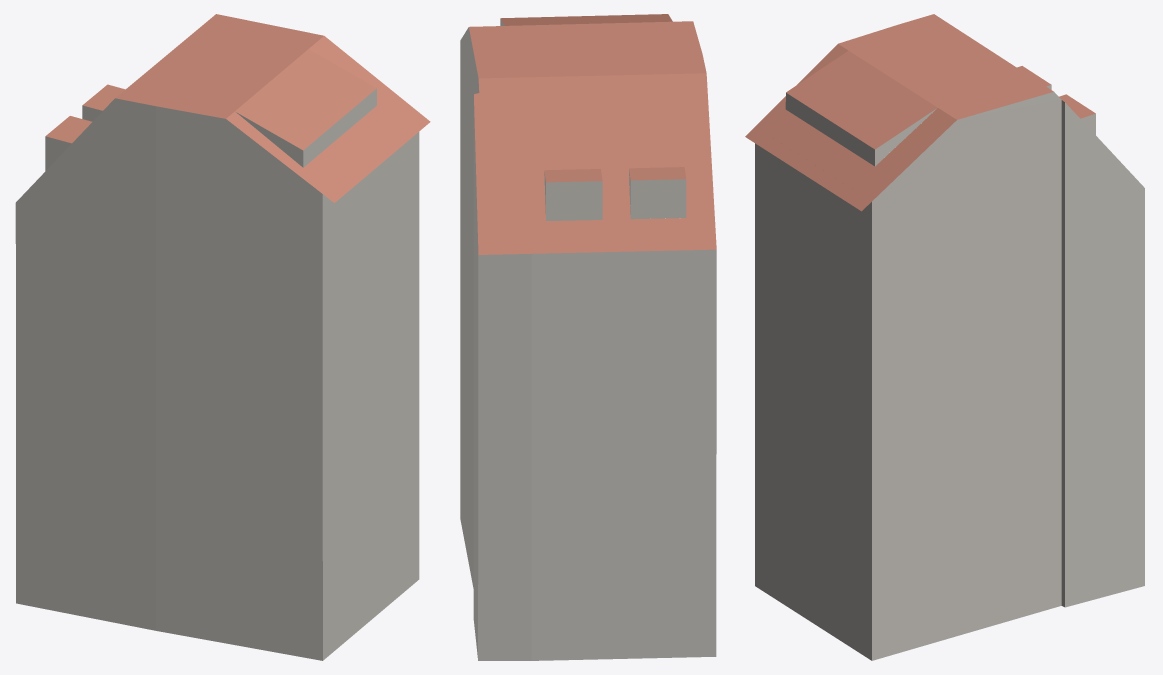
3 views of the same model, side by side, from view 1: azimuth 30°, elevation 25°; view 2: azimuth 150°, elevation 25°; view 3: azimuth 270°, elevation 25° (orthographic). The views are drawn at different scales.
Parts seen in each view (by area): view 1: swisstopo:swissbuildings3d:e5fde523-4b35-4098-9670-4b5f9e4bb; view 2: swisstopo:swissbuildings3d:e5fde523-4b35-4098-9670-4b5f9e4bb; view 3: swisstopo:swissbuildings3d:e5fde523-4b35-4098-9670-4b5f9e4bb.
Part boxes in pixels (box(x1,y1,x2,y2)): swisstopo:swissbuildings3d:e5fde523-4b35-4098-9670-4b5f9e4bb: box(15, 14, 430, 660); swisstopo:swissbuildings3d:e5fde523-4b35-4098-9670-4b5f9e4bb: box(460, 14, 716, 660); swisstopo:swissbuildings3d:e5fde523-4b35-4098-9670-4b5f9e4bb: box(745, 14, 1144, 660).
Size of the model in its own units: 14.99 by 22.5 by 15.95.
